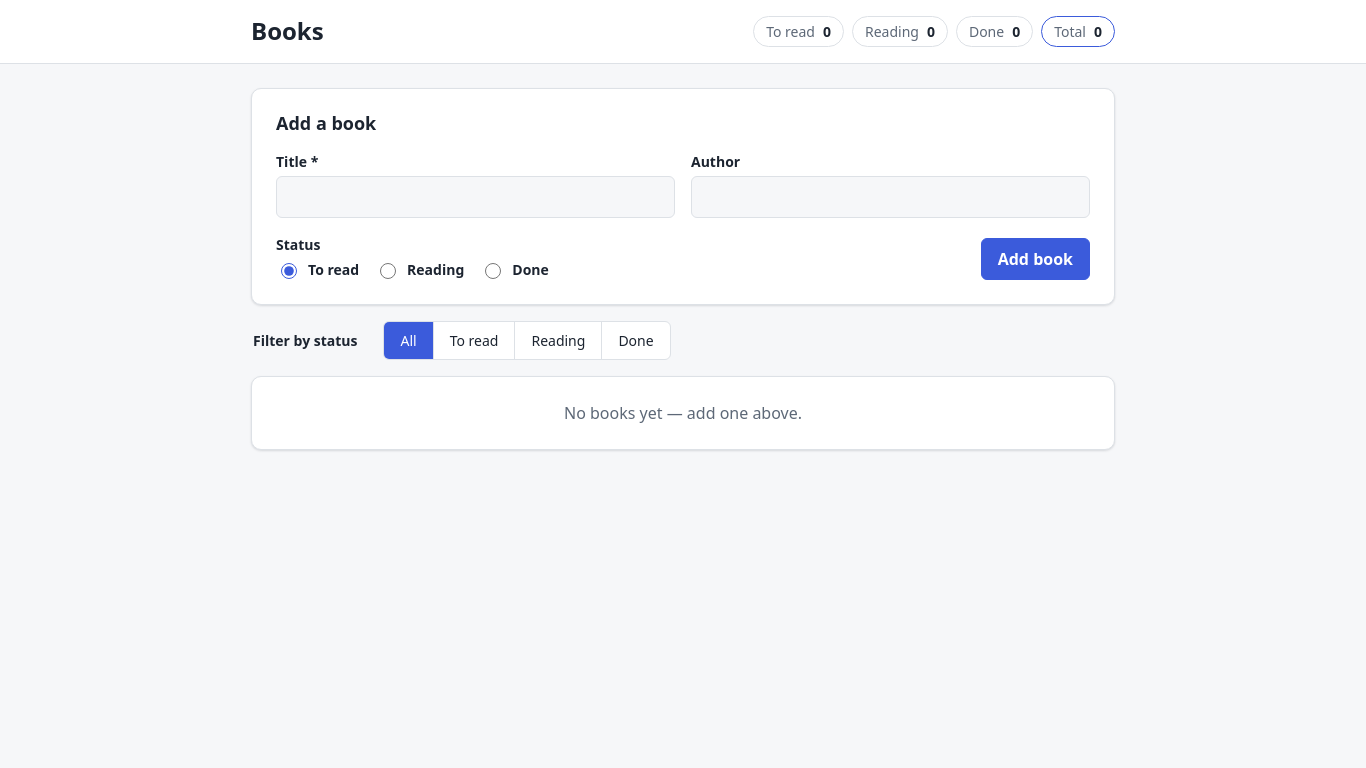
AddBookForm › submits a valid book → row appears, stats update, success toast, form resets
Expected: the text "No books yet — add one above." is shown, 564,402 -> 802,424
In the field labelled "Title *": [476, 197] box 276,176 -> 675,218, type "  Dune  "
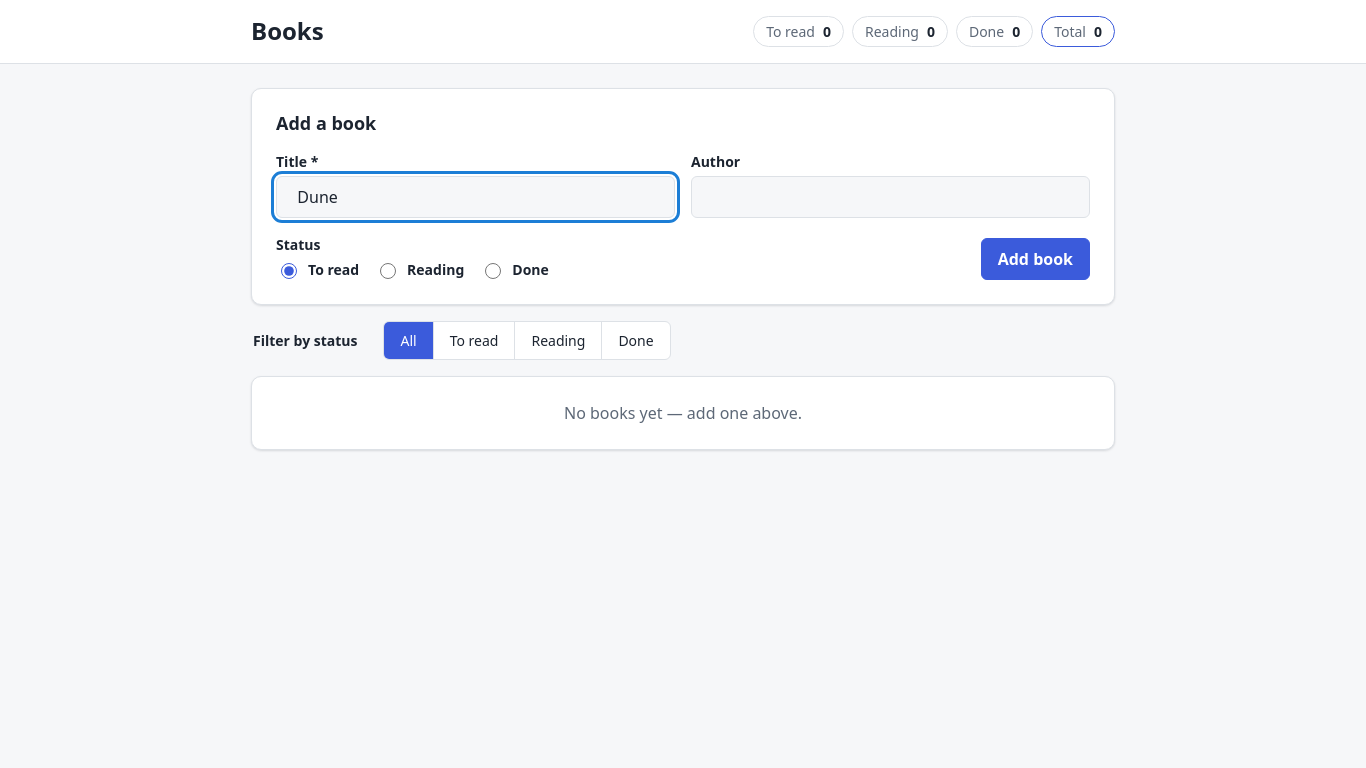
In the field labelled "Author": [890, 197] box 691,176 -> 1090,218, type "Frank Herbert"
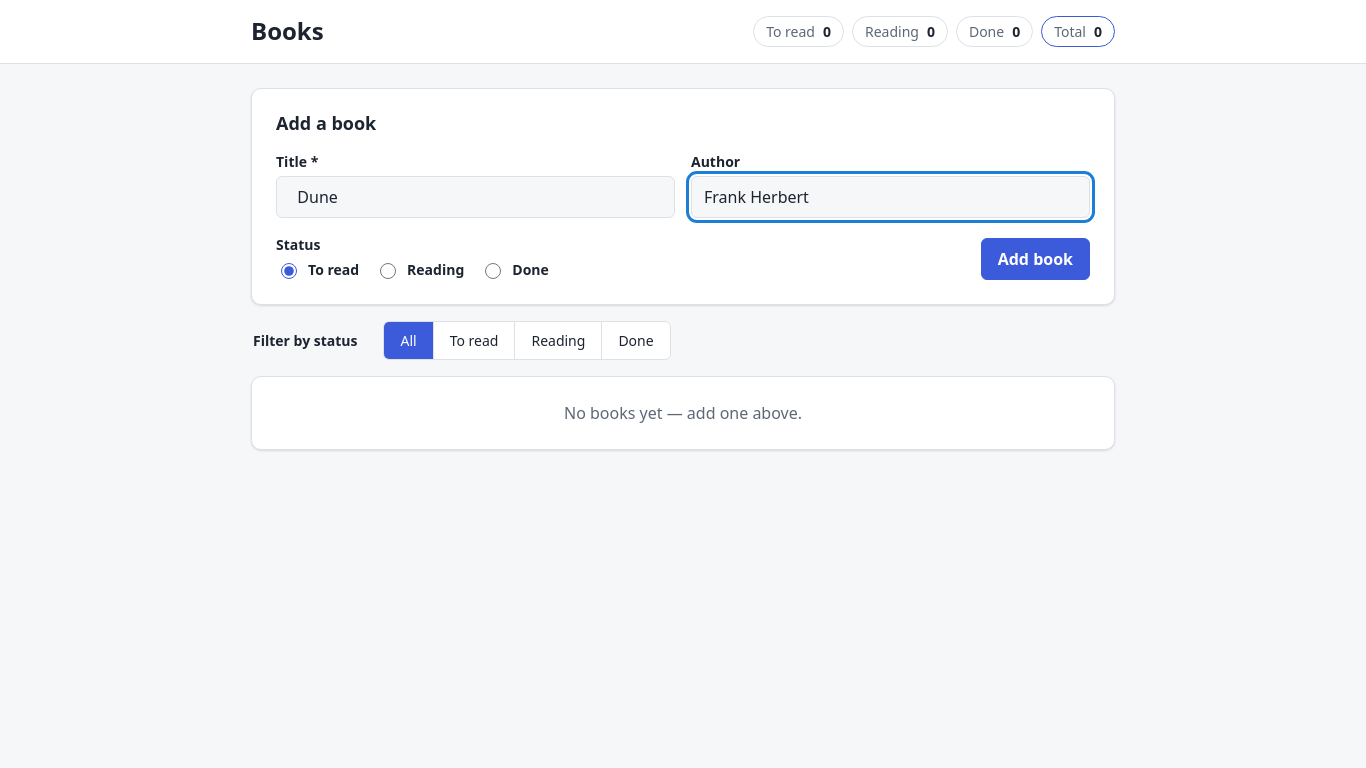
Click the button "Add book": [1035, 259] box 981,238 -> 1090,280
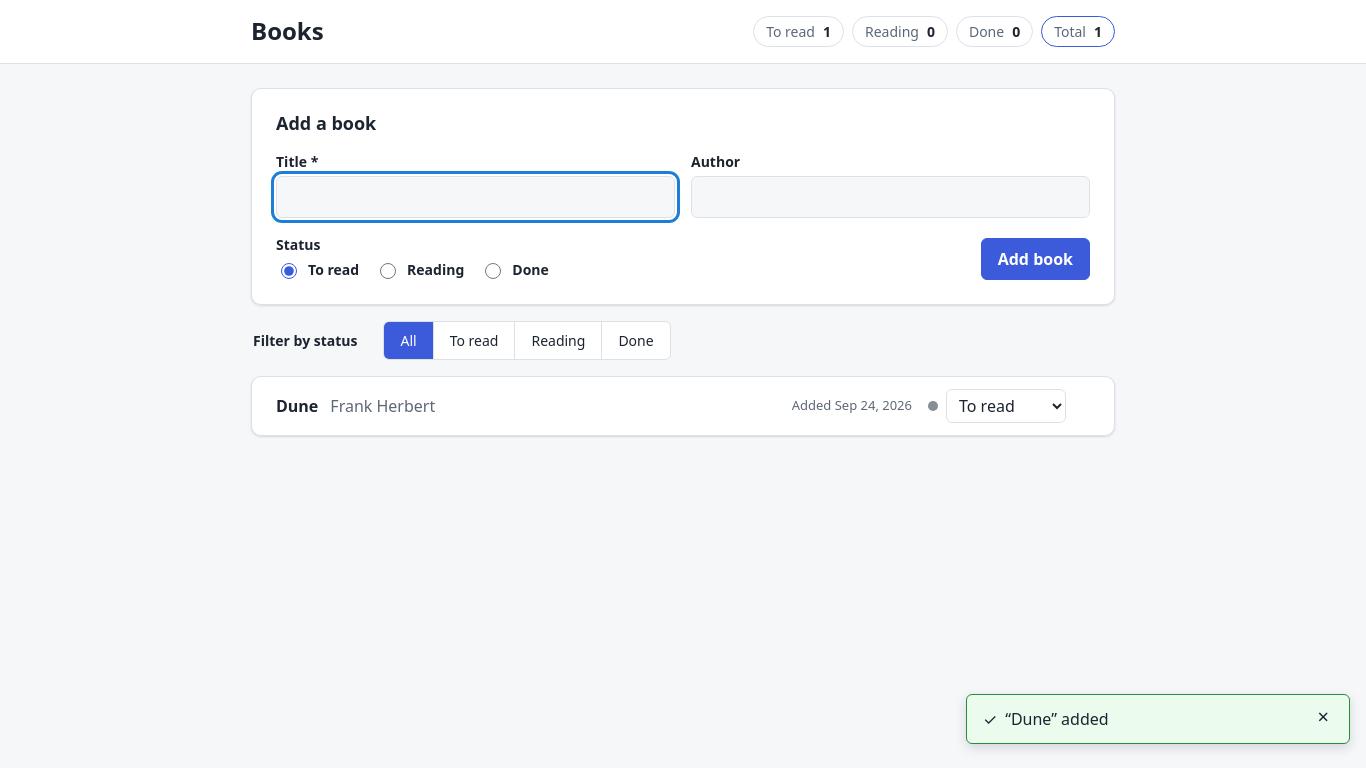
Expected: the text "“Dune” added" is shown, 1005,708 -> 1109,730
Expected: the text "Frank Herbert" is shown, 330,394 -> 435,418
Expected: the text with test id "stat-total" next to "Total" reads "1", 1094,22 -> 1102,41
